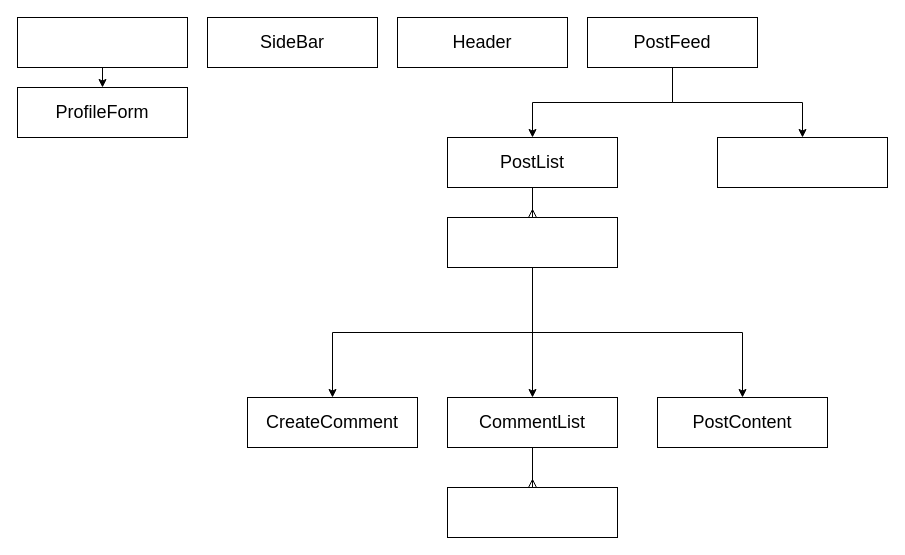
Some shapes in this 905 by 555 pixel diagram are drawn without their labels. Each missing label, with the centre of its shape:
"Comment" goes at point (532, 512).
"CreatePost" goes at point (802, 162).
"PostItem" goes at point (532, 242).
"Profile" goes at point (102, 42).
